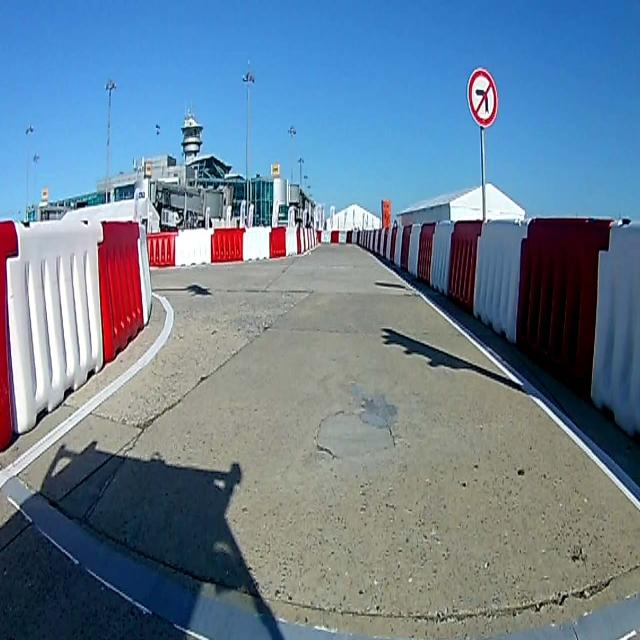soladonulmez: (467, 69, 498, 123)
